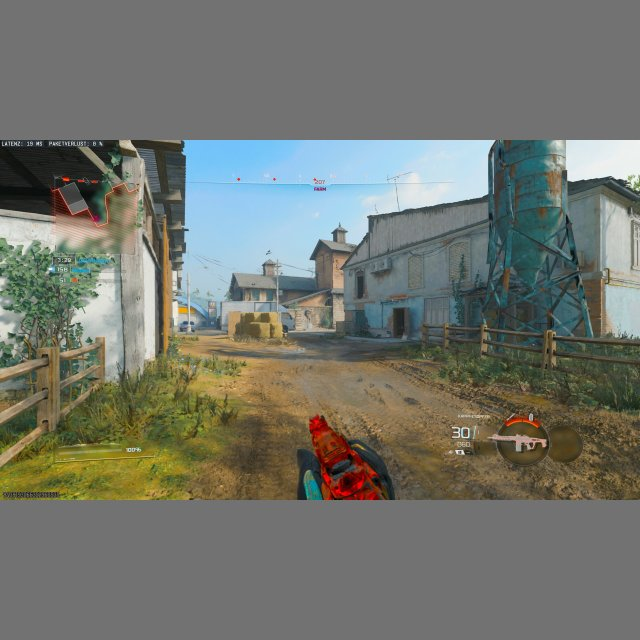player: (302, 415, 391, 500)
